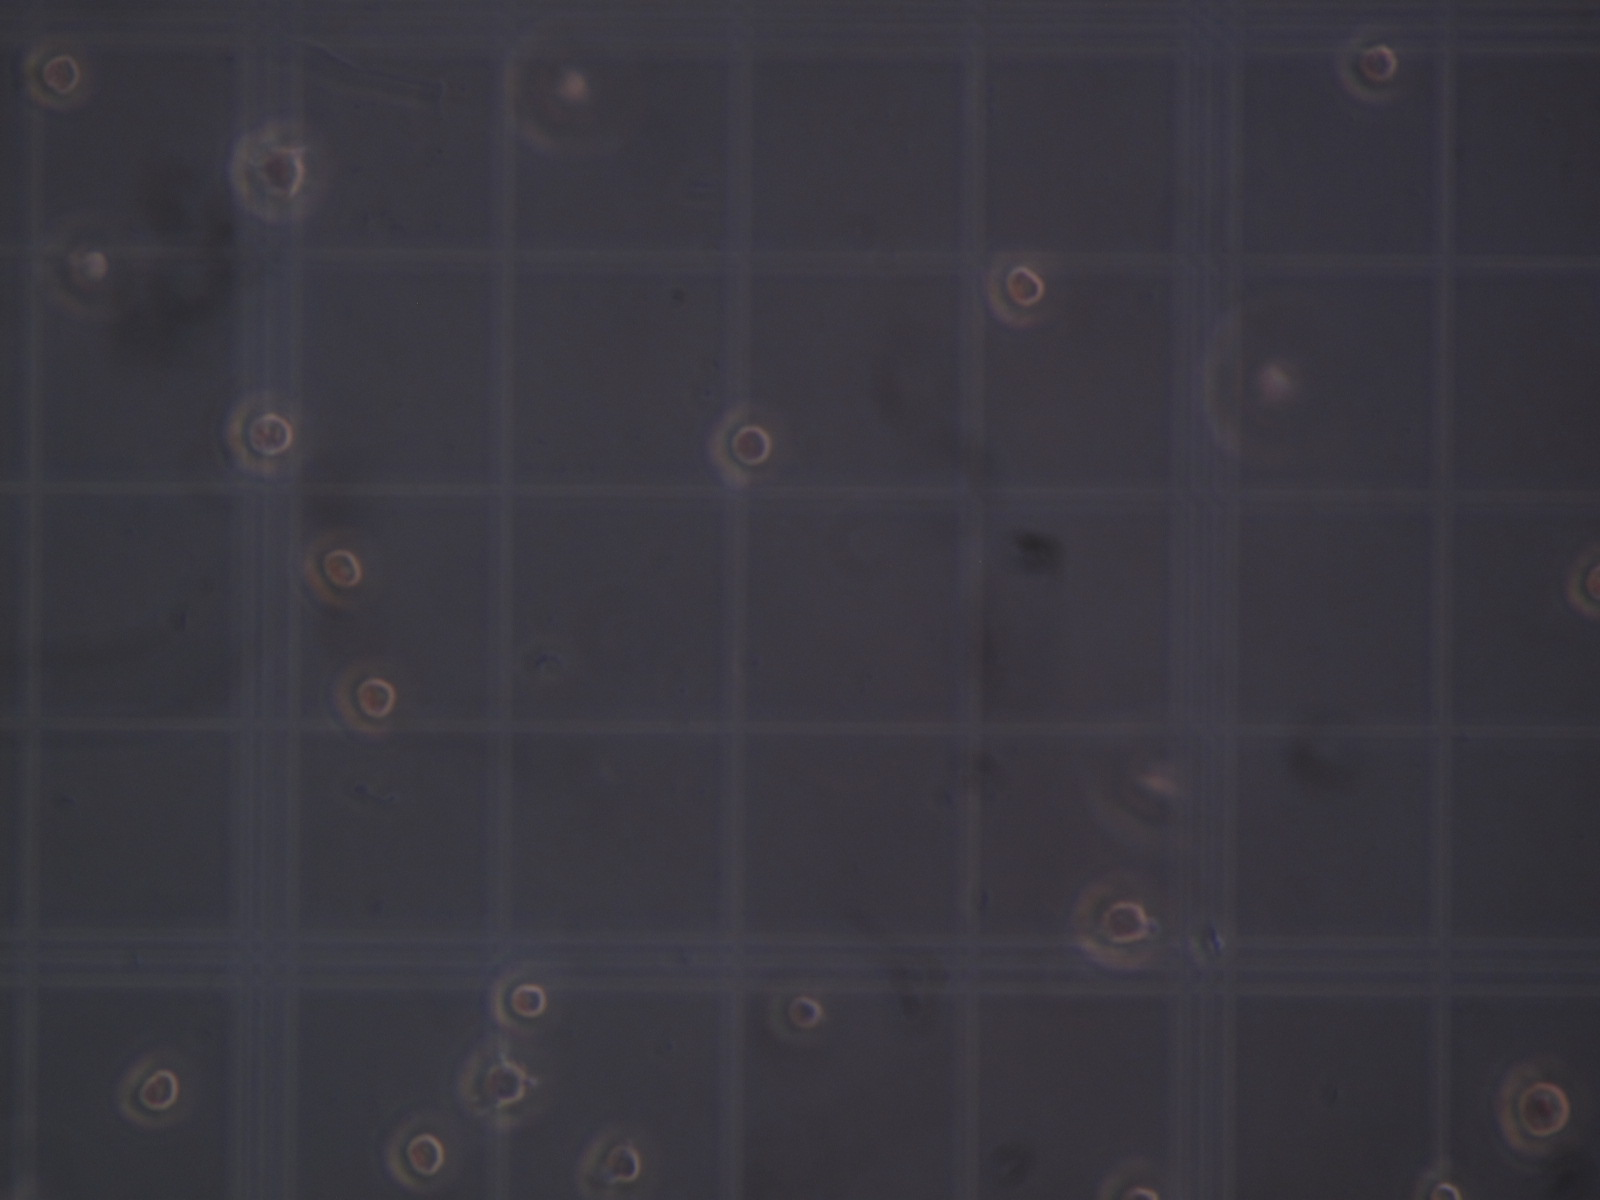hemo: (229, 129, 310, 221), (1071, 881, 1151, 971), (1495, 1064, 1570, 1155), (459, 1042, 530, 1129), (224, 396, 295, 475), (708, 408, 774, 487), (117, 1055, 184, 1129), (333, 663, 397, 736), (302, 534, 363, 609), (1335, 35, 1400, 105), (384, 1119, 446, 1191), (21, 43, 86, 110), (985, 255, 1044, 326), (580, 1132, 644, 1190), (489, 971, 547, 1035), (769, 984, 823, 1045), (1567, 550, 1600, 618), (1097, 1170, 1165, 1200), (1414, 1171, 1463, 1200)
